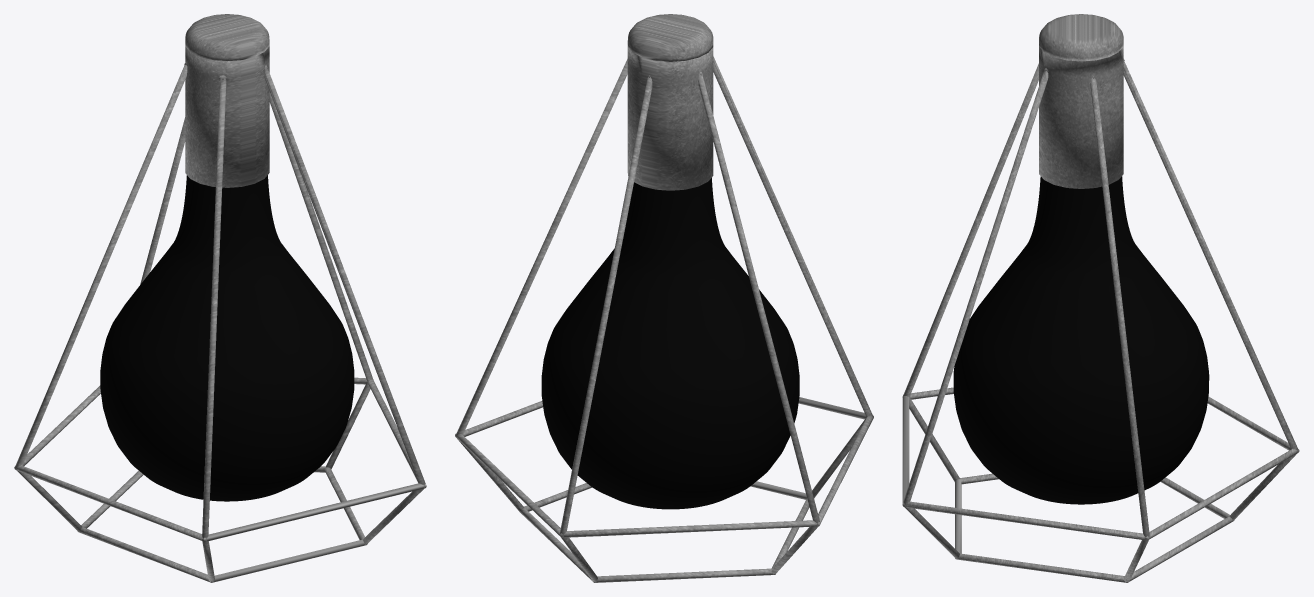
File: focoRojo.obj
The picture shows the model from 3 angles, left to right: view 1: azimuth 30°, elevation 25°; view 2: azimuth 150°, elevation 25°; view 3: azimuth 270°, elevation 25°; orthographic projection.
Parts seen in each view (by area): view 1: RedLamp:Cylinder017polySurface1, RedLamp:Cylinder017; view 2: RedLamp:Cylinder017polySurface1, RedLamp:Cylinder017; view 3: RedLamp:Cylinder017polySurface1, RedLamp:Cylinder017.
Boxes of the visible parts, box(x1,y1,x2,y2) form: RedLamp:Cylinder017polySurface1: box(100, 175, 354, 501); RedLamp:Cylinder017: box(14, 14, 426, 582); RedLamp:Cylinder017polySurface1: box(541, 178, 799, 509); RedLamp:Cylinder017: box(455, 14, 873, 582); RedLamp:Cylinder017polySurface1: box(953, 176, 1209, 504); RedLamp:Cylinder017: box(902, 14, 1299, 582).
Size of the model in its own units: 0.0945 by 0.1236 by 0.09.
